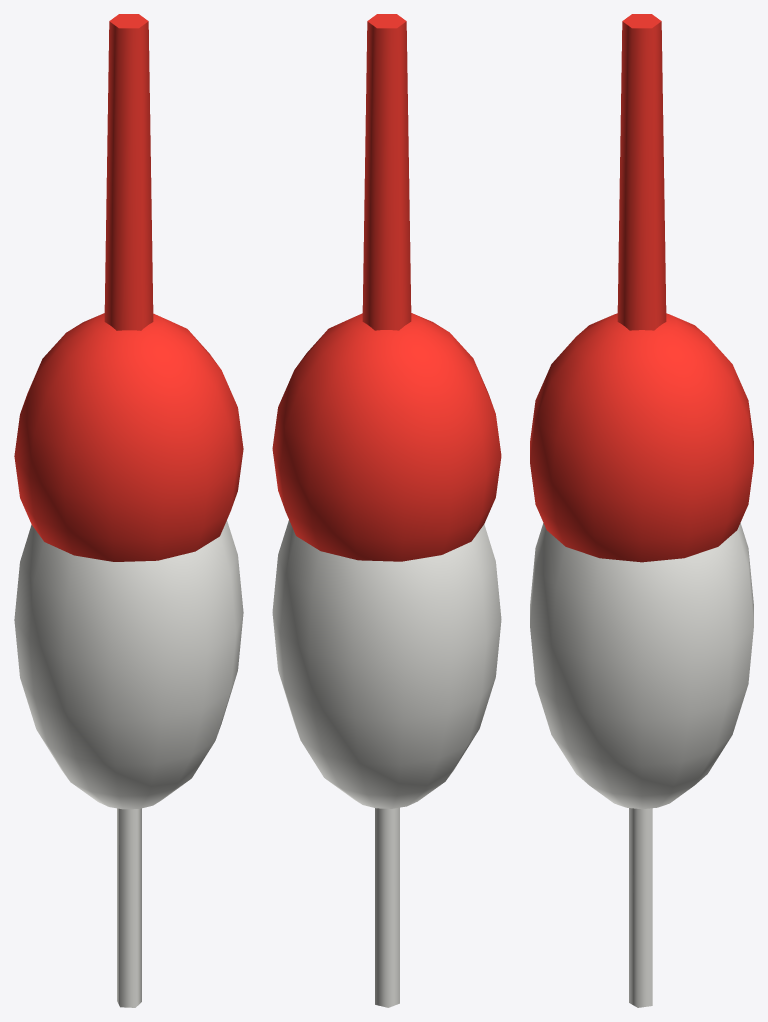
Rendered from bobber.glb.
3 views of the same model, side by side, from view 1: azimuth 30°, elevation 25°; view 2: azimuth 150°, elevation 25°; view 3: azimuth 270°, elevation 25° (orthographic).
Bounding box in the file's own units: 0.14 × 0.66 × 0.1365.
